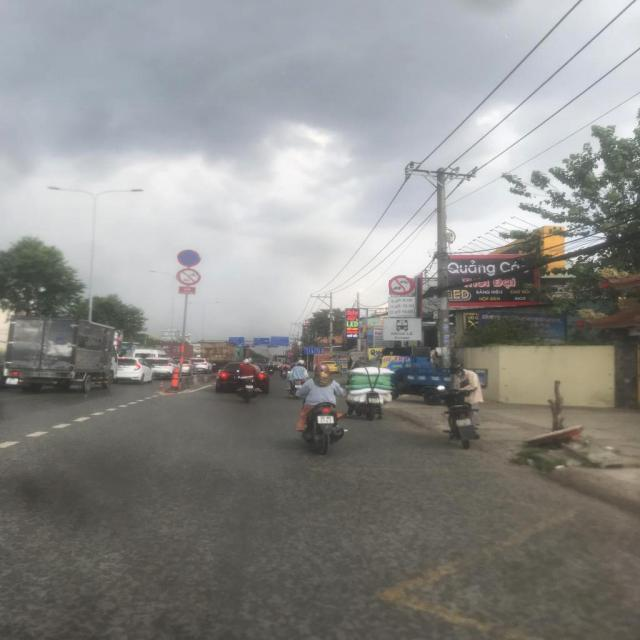cam_dung_xe_va_do_xe: (178, 249, 202, 267)
cam_o_to_tai_va_xe_khach: (389, 275, 415, 295)
cam_xe_2_banh_va_xe_3_banh_co_dong_co: (176, 268, 201, 286)
huong_di_tren_moi_lan_duong_theo_vach_ke_duong: (304, 348, 322, 354)
khac: (382, 319, 421, 341), (388, 297, 416, 317), (254, 338, 270, 346), (229, 338, 244, 346)
